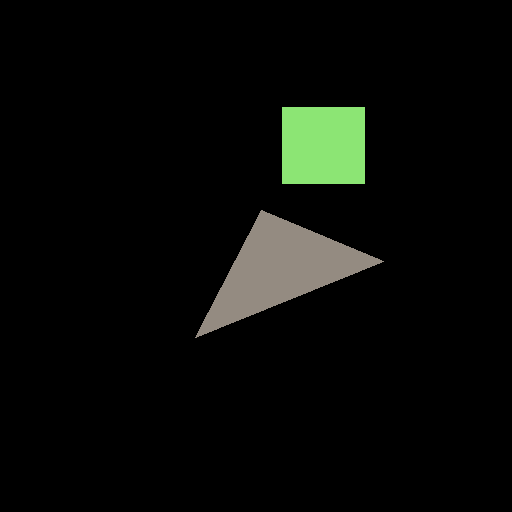square: (282, 107, 364, 183)
triangle: (195, 210, 383, 337)
